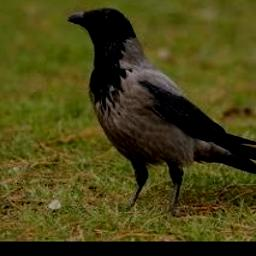Crow: (69, 7, 256, 212)
